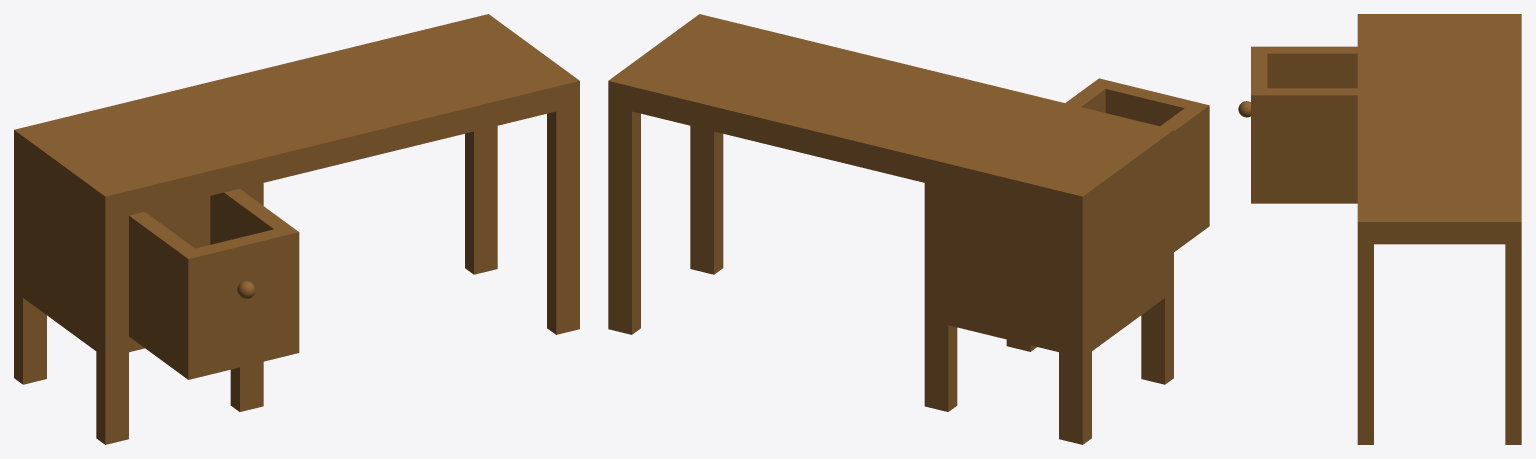
The model's file is desk.fbx.
3 renders of one model, left to right at view 1: azimuth 30°, elevation 25°; view 2: azimuth 150°, elevation 25°; view 3: azimuth 270°, elevation 25°, orthographic. The views are drawn at different scales.
Visible parts, largest first — view 1: Cube, Cube.001; view 2: Cube, Cube.001; view 3: Cube, Cube.001.
Boxes of the visible parts, <box> form: Cube: <box>14,14,579,444</box>; Cube.001: <box>129,188,299,379</box>; Cube: <box>608,14,1173,444</box>; Cube.001: <box>1065,78,1209,251</box>; Cube: <box>1357,14,1521,444</box>; Cube.001: <box>1238,46,1357,203</box>.
Size of the model in its own units: 600 by 300 by 345.
